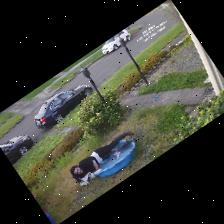person: (71, 131, 136, 183)
